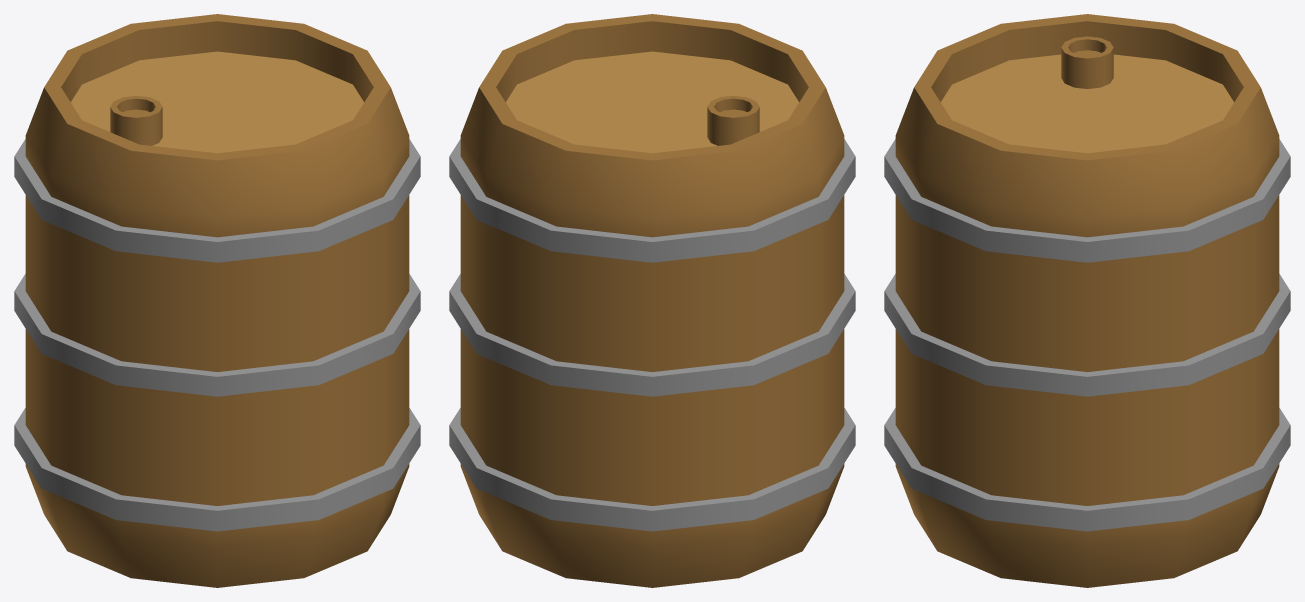
The model's file is Barrel.fbx.
3 views of the same model, side by side, from view 1: azimuth 30°, elevation 25°; view 2: azimuth 150°, elevation 25°; view 3: azimuth 270°, elevation 25° (orthographic).
Visible parts, largest first — view 1: Cylinder, Cylinder.001; view 2: Cylinder, Cylinder.001; view 3: Cylinder, Cylinder.001.
Boxes of the visible parts, x1,y1,x2,y2 form: Cylinder: (14,14,420,587); Cylinder.001: (110,95,162,145); Cylinder: (449,14,855,587); Cylinder.001: (707,95,759,145); Cylinder: (884,14,1290,587); Cylinder.001: (1061,36,1113,88).
Size of the model in its own units: 217 by 252 by 217.
